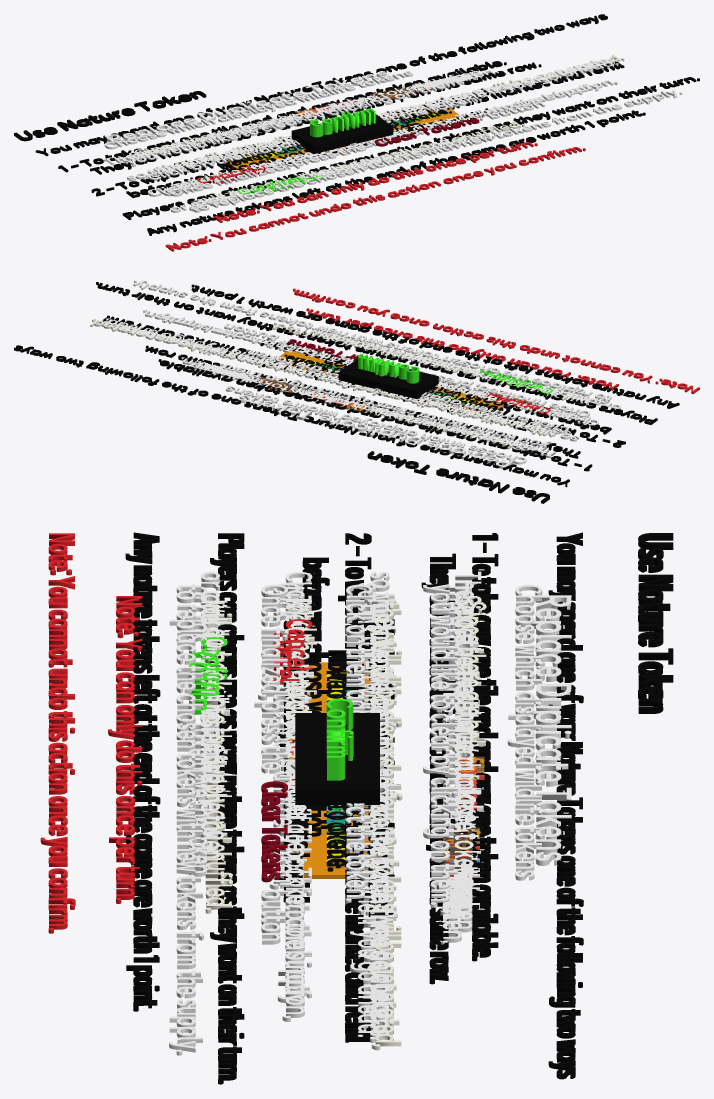
File: cascadia-final1.glb
3 views of the same model, one above another, from view 1: azimuth 30°, elevation 25°; view 2: azimuth 150°, elevation 25°; view 3: azimuth 270°, elevation 25° (orthographic). The views are drawn at different scales.
Parts seen in each view (by area): view 1: use-nature-token, nature-clear, 3-duplicate-token, no-valid-placement, nature-no-valid-placement, confirm, all-duplicate-token, replace, last-turn; view 2: use-nature-token, nature-clear, 3-duplicate-token, no-valid-placement, nature-no-valid-placement, all-duplicate-token, confirm, replace, last-turn; view 3: use-nature-token, nature-clear, 3-duplicate-token, no-valid-placement, nature-no-valid-placement, all-duplicate-token, confirm, replace, last-turn, nature-turn-token.
Boxes of the visible parts, <box> form: use-nature-token: <box>14,14,699,251</box>; nature-clear: <box>104,71,682,212</box>; 3-duplicate-token: <box>104,59,617,222</box>; no-valid-placement: <box>102,61,617,212</box>; nature-no-valid-placement: <box>118,60,618,211</box>; confirm: <box>291,108,393,154</box>; all-duplicate-token: <box>134,54,624,203</box>; replace: <box>228,107,458,168</box>; last-turn: <box>174,88,493,183</box>; use-nature-token: <box>14,282,699,503</box>; nature-clear: <box>133,280,611,464</box>; 3-duplicate-token: <box>100,308,618,468</box>; no-valid-placement: <box>113,309,620,458</box>; nature-no-valid-placement: <box>105,318,608,451</box>; all-duplicate-token: <box>90,318,588,450</box>; confirm: <box>338,353,438,399</box>; replace: <box>276,350,503,416</box>; last-turn: <box>223,339,550,431</box>; use-nature-token: <box>40,532,673,1084</box>; nature-clear: <box>169,584,542,1055</box>; 3-duplicate-token: <box>108,594,571,1042</box>; no-valid-placement: <box>201,571,481,1025</box>; nature-no-valid-placement: <box>188,583,468,1036</box>; all-duplicate-token: <box>198,602,486,1050</box>; confirm: <box>295,699,379,806</box>; replace: <box>295,662,377,878</box>; last-turn: <box>278,619,394,916</box>; nature-turn-token: <box>320,650,354,871</box>.
Size of the model in its own units: 30.65 by 1.15 by 14.94.
Materials: 38 (38 with a texture image).
